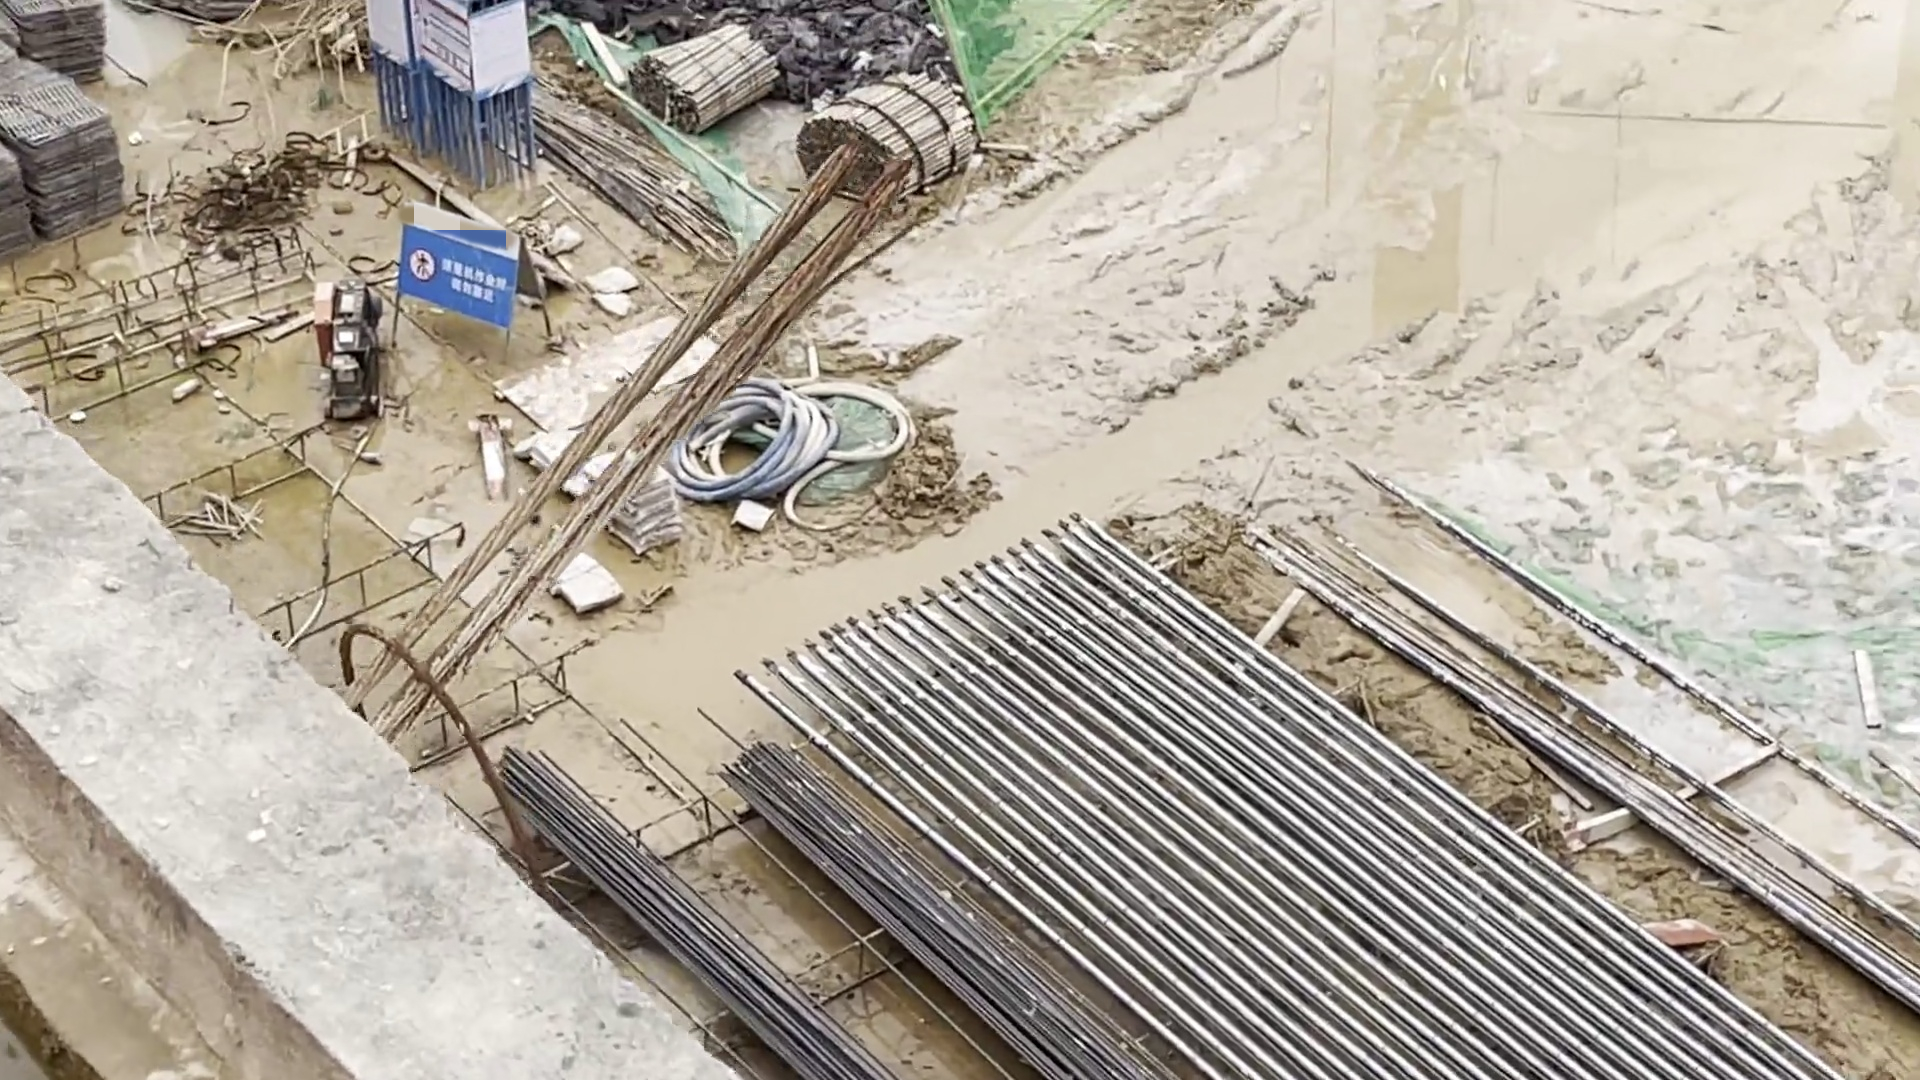rebar: (458, 737, 1141, 1080)
slogan: (400, 211, 514, 316)
